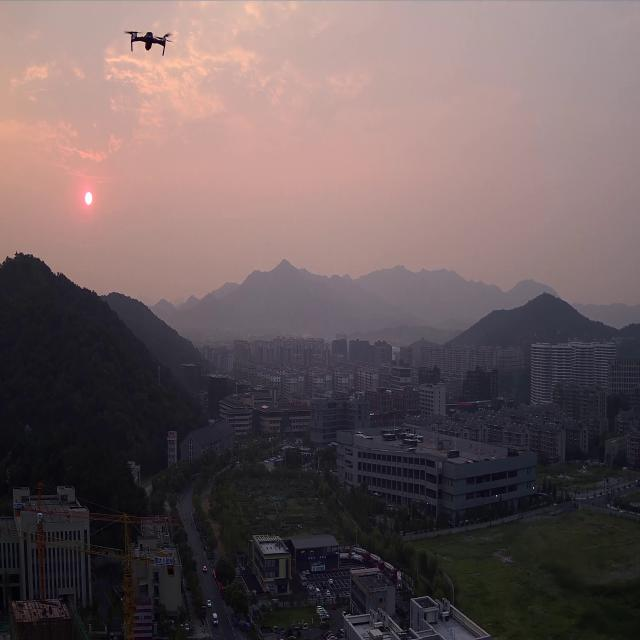UAV: (124, 30, 174, 55)
